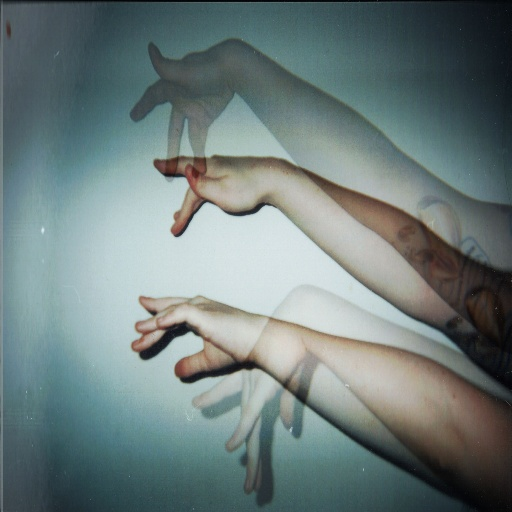hand: (187, 284, 310, 496), (127, 35, 240, 177), (153, 154, 282, 240)
